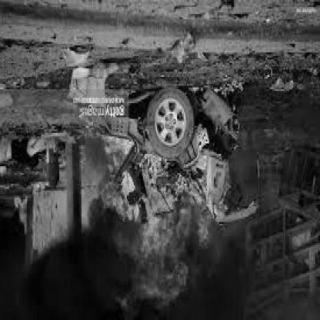Smoke: (5, 222, 276, 320)
